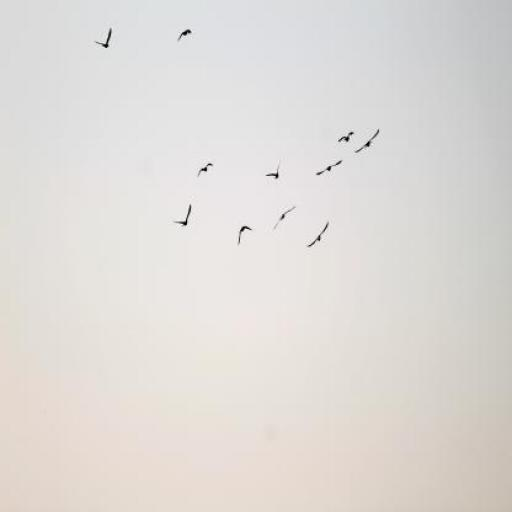bird: (354, 129, 380, 152), (308, 221, 330, 247), (274, 206, 296, 230), (316, 160, 343, 175), (93, 28, 112, 49), (174, 204, 191, 226), (266, 158, 281, 179), (237, 226, 252, 245), (197, 163, 214, 177), (177, 30, 192, 42), (338, 132, 353, 142)
